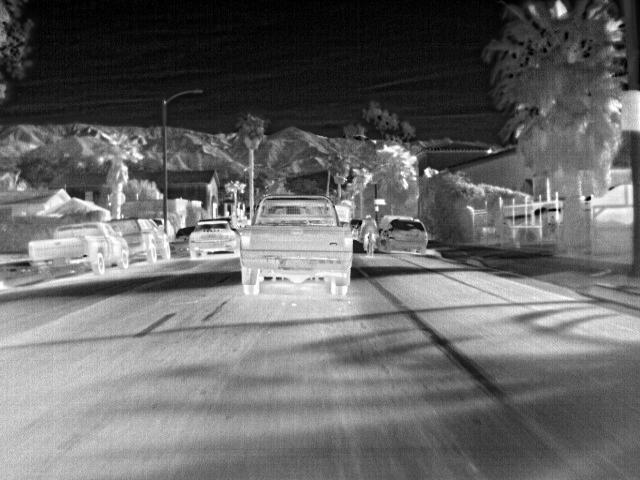car: (238, 195, 352, 298), (25, 222, 130, 280), (110, 216, 172, 262), (378, 216, 428, 256), (188, 219, 238, 259), (350, 220, 364, 242), (174, 226, 188, 243)
person: (364, 214, 377, 235)
